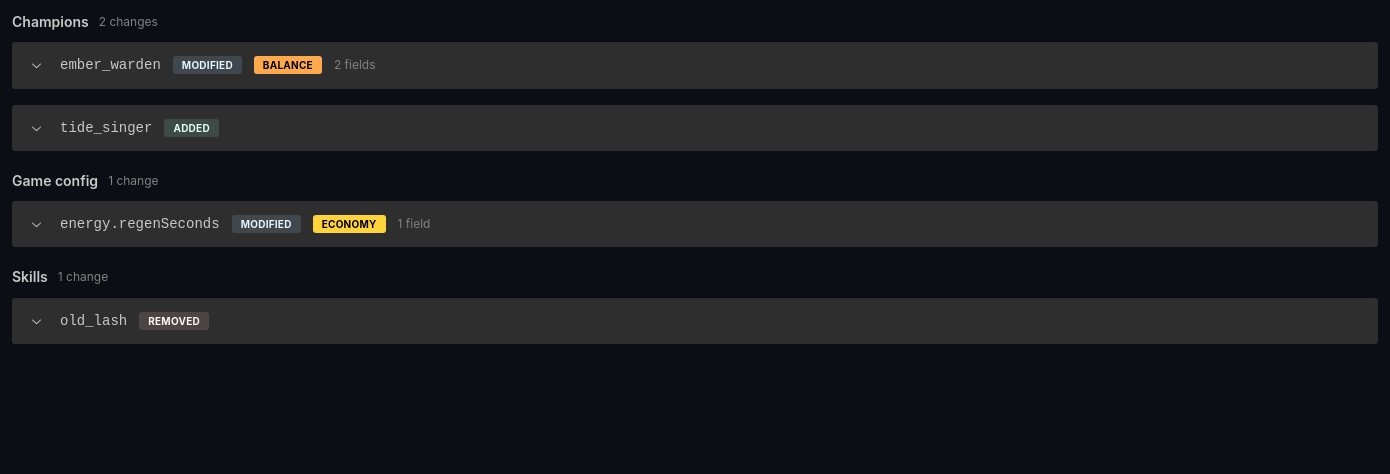
it: DiffViewer › renders old and new values once an entity is expanded
Click the text "energy.regenSeconds": [140, 224] box left=60, top=214, right=220, bottom=234
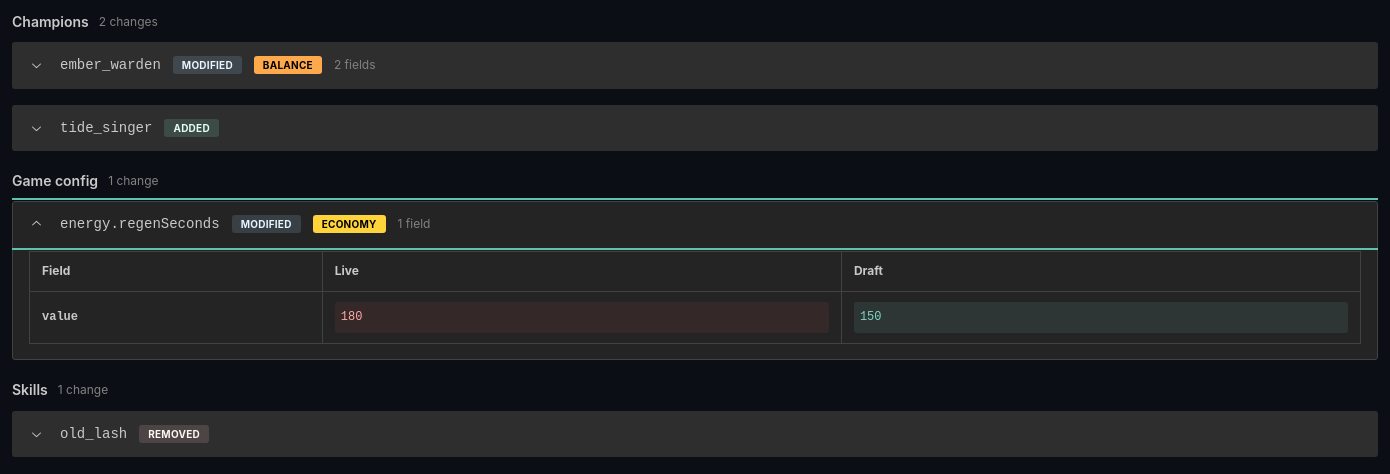
Result: the text "value" is shown at left=42, top=310, right=78, bottom=324
Result: the text "180" is shown at left=341, top=310, right=362, bottom=324
Result: the text "150" is shown at left=860, top=310, right=882, bottom=324
